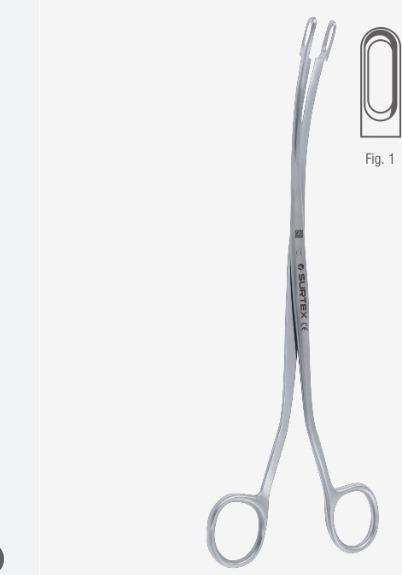Desjardin Forceps: (197, 8, 377, 568)
